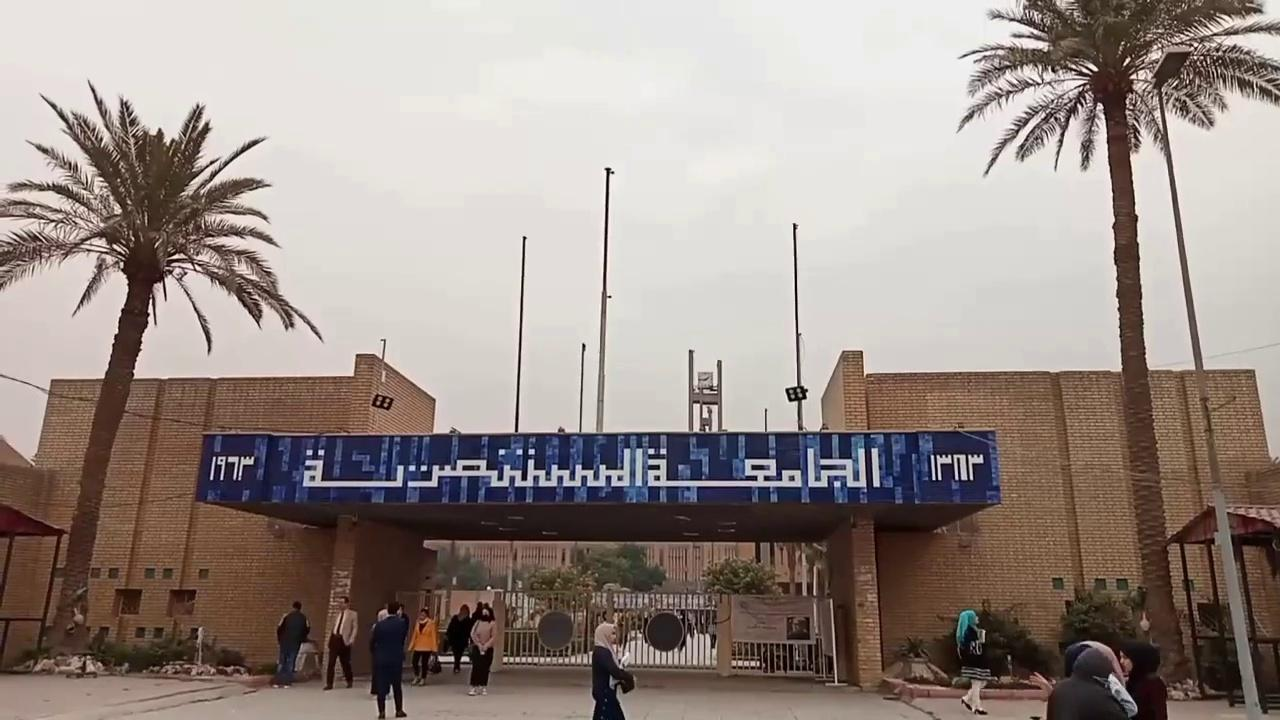person: (1045, 646, 1137, 719), (368, 601, 408, 719), (590, 620, 635, 718), (1116, 640, 1168, 719), (955, 609, 991, 715), (270, 600, 310, 688), (322, 594, 358, 690), (406, 606, 439, 686), (467, 602, 495, 695), (445, 603, 472, 673)
tree: (954, 0, 1278, 687), (0, 78, 324, 658), (933, 596, 1054, 684), (699, 554, 783, 649), (1058, 576, 1149, 652), (584, 542, 666, 593), (699, 554, 782, 597)
